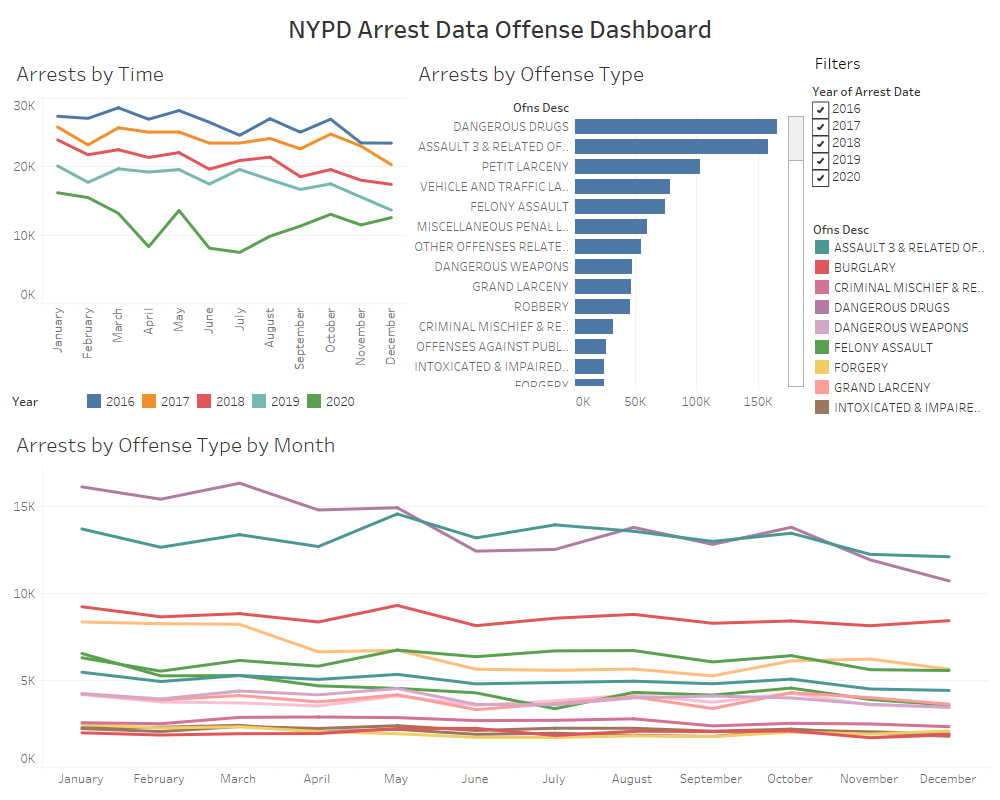

Layout of this report page (visuals, bound fields, positions):
{"tool":"tableau","page":{"name":"NYPD Arrest Data Offense Dashboard","canvas":[1000,800],"ordinal":1},"visuals":[{"type":"title","box":[8,8,984,41]},{"type":"worksheet","title":"Arrests by Time","mark":"Line","rows":["ARREST_DATE"],"cols":["ARREST_DATE"],"box":[8,49,402,338.4]},{"type":"worksheet","title":"Arrests by Offense Type","mark":"Automatic","rows":["OFNS_DESC"],"cols":["ARREST_DATE"],"box":[410,49,398,371.5]},{"type":"text","box":[808,49,184,29]},{"type":"filter","title":"Arrests by Offense Type by Month","param":"[federated.0u0g2jr0y9b0lh1fggo9v036ljvq].[yr:ARREST_DATE:ok]","box":[808,78,184,147]},{"type":"legend","title":"Arrests by Offense Type by Month","param":"[federated.0u0g2jr0y9b0lh1fggo9v036ljvq].[none:OFNS_DESC:nk]","box":[808,225,184,195.5]},{"type":"legend","title":"Arrests by Time","param":"[federated.0u0g2jr0y9b0lh1fggo9v036ljvq].[yr:ARREST_DATE:ok]","box":[8,387.4,402,33]},{"type":"worksheet","title":"Arrests by Offense Type by Month","mark":"Automatic","rows":["ARREST_DATE"],"cols":["ARREST_DATE"],"box":[8,420.5,984,371.5]}]}

Visuals, with their boxes in screenshot pixels (x1, y1, x2, y2), scaled from the page's 1000x800 canvas onto the 1000x800 screenshot:
title: [left=8, top=8, right=992, bottom=49]
"Arrests by Time" worksheet (Line marks): [left=8, top=49, right=410, bottom=387]
"Arrests by Offense Type" worksheet: [left=410, top=49, right=808, bottom=420]
text: [left=808, top=49, right=992, bottom=78]
"Arrests by Offense Type by Month" filter: [left=808, top=78, right=992, bottom=225]
"Arrests by Offense Type by Month" legend: [left=808, top=225, right=992, bottom=420]
"Arrests by Time" legend: [left=8, top=387, right=410, bottom=420]
"Arrests by Offense Type by Month" worksheet: [left=8, top=420, right=992, bottom=792]
